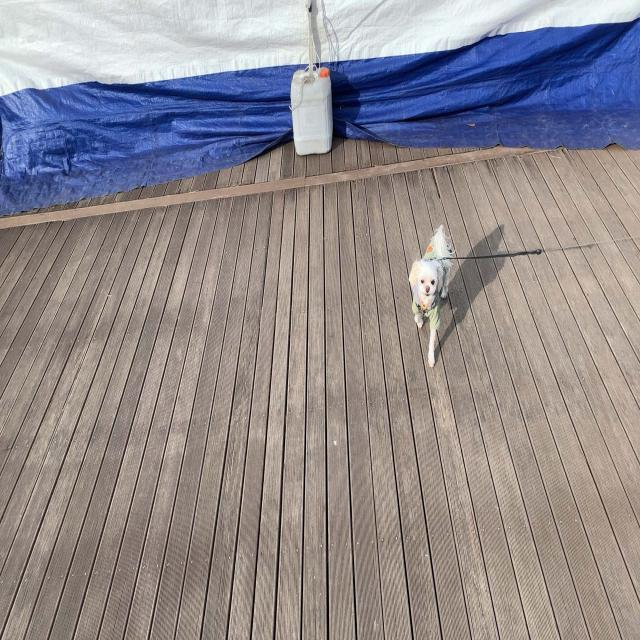Dog: (408, 223, 456, 367)
